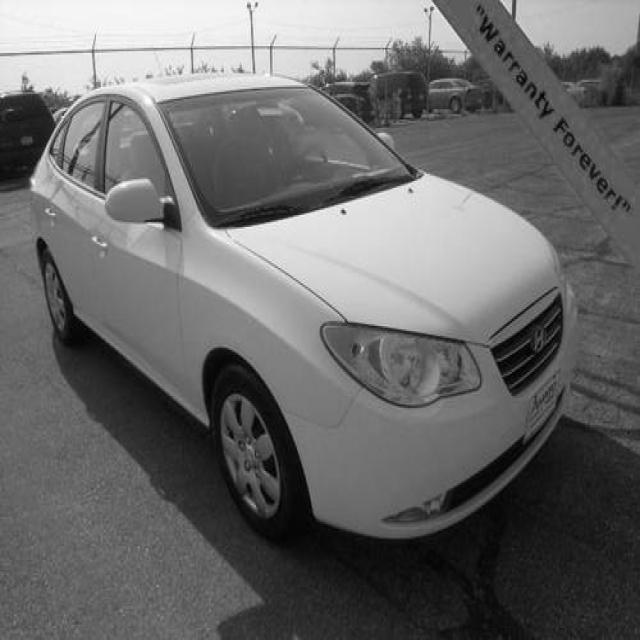car: (28, 70, 580, 544)
